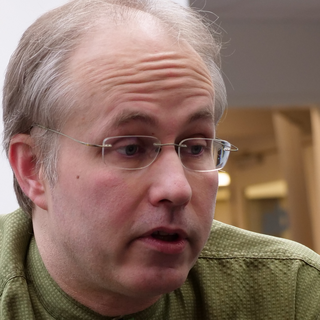eye: (103, 135, 152, 164), (175, 138, 219, 164)
